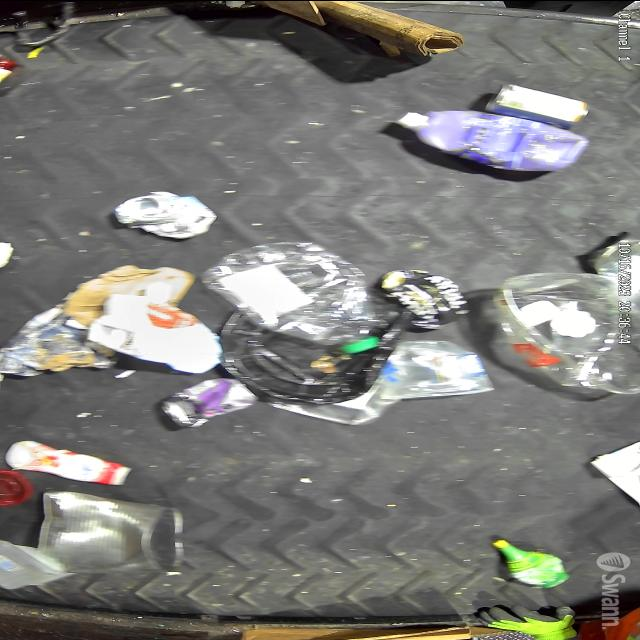can: (28, 489, 194, 577), (157, 376, 259, 431), (109, 190, 225, 237), (479, 85, 591, 129)
plastic_bottle: (198, 238, 394, 356)
